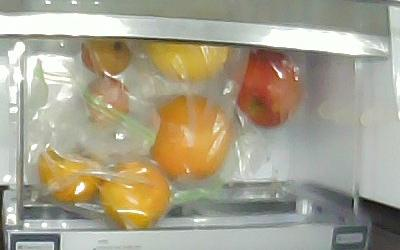apple_vinyl: (234, 49, 303, 127)
grapefruit_vinyl: (150, 94, 234, 182), (142, 41, 229, 82)
persimmon_vinyl: (100, 162, 169, 230), (39, 146, 99, 202)
prune_vinyl: (84, 77, 131, 124), (82, 39, 132, 76)
